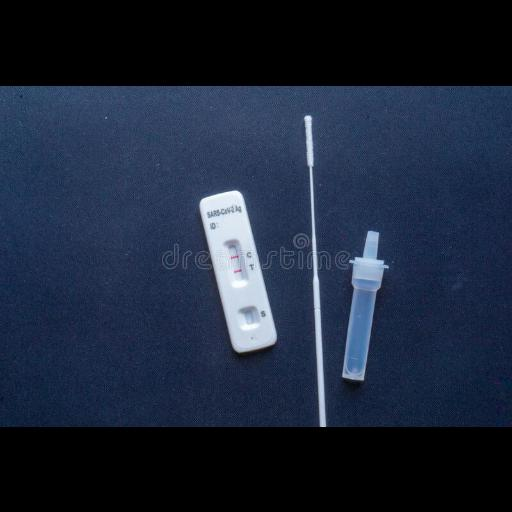Pos: (197, 186, 278, 353)
